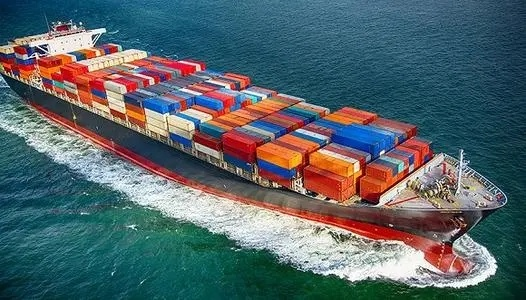Cargoship: (1, 15, 508, 275)
